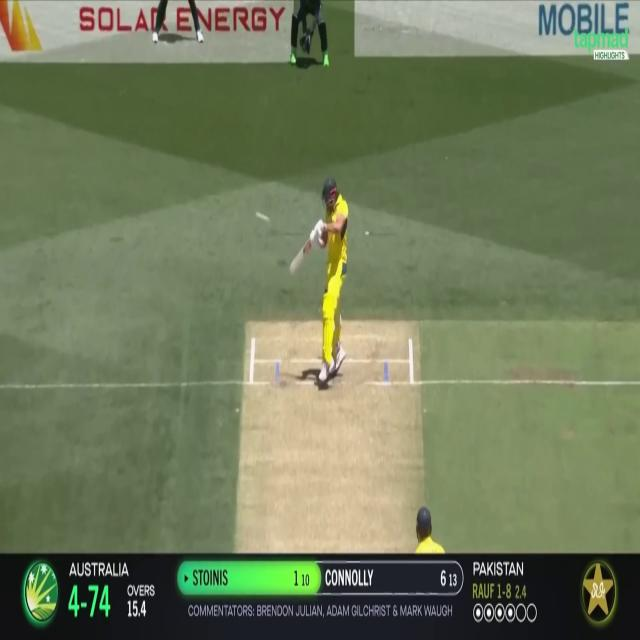Batsman: (297, 141, 360, 410)
